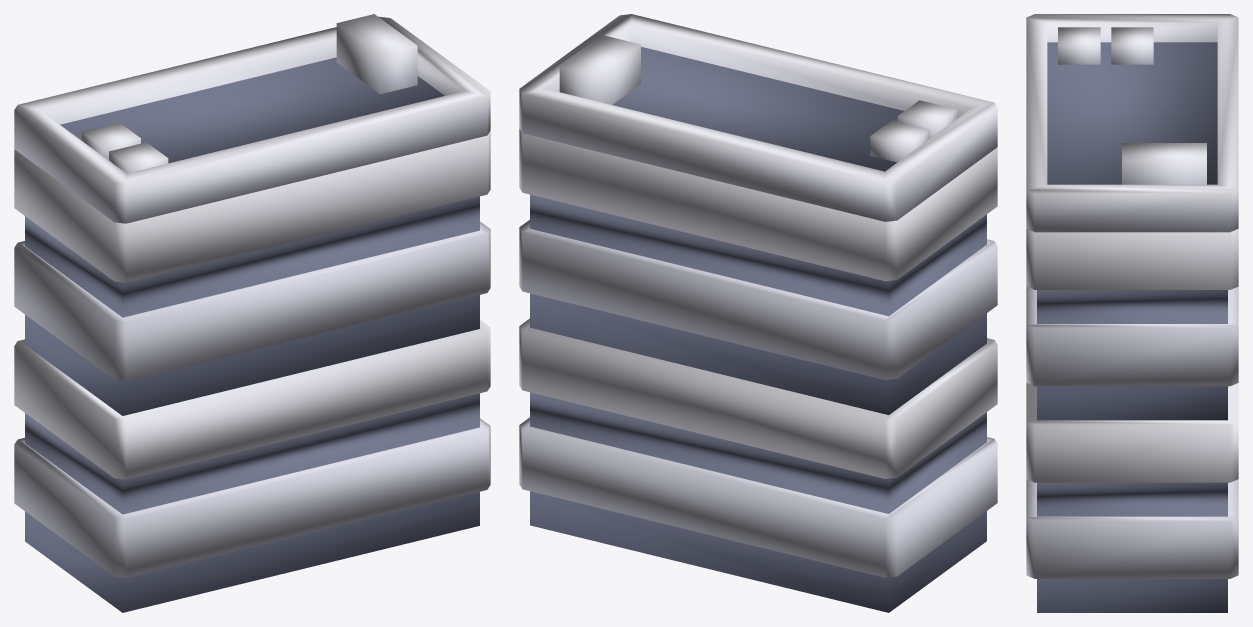
File: low-detail-building-wide-b_lev1.glb
The picture shows the model from 3 angles, left to right: view 1: azimuth 30°, elevation 25°; view 2: azimuth 150°, elevation 25°; view 3: azimuth 270°, elevation 25°; orthographic projection. The views are drawn at different scales.
Visible parts, largest first — view 1: low-detail-building-wide-b_lev1; view 2: low-detail-building-wide-b_lev1; view 3: low-detail-building-wide-b_lev1.
Part boxes in pixels (x1,y1,x2,y2): low-detail-building-wide-b_lev1: [14, 14, 490, 612]; low-detail-building-wide-b_lev1: [519, 14, 997, 612]; low-detail-building-wide-b_lev1: [1026, 14, 1238, 612].
Bounding box in the file's own units: 1 × 1.15 × 0.5.
1 material, 1 textured.
